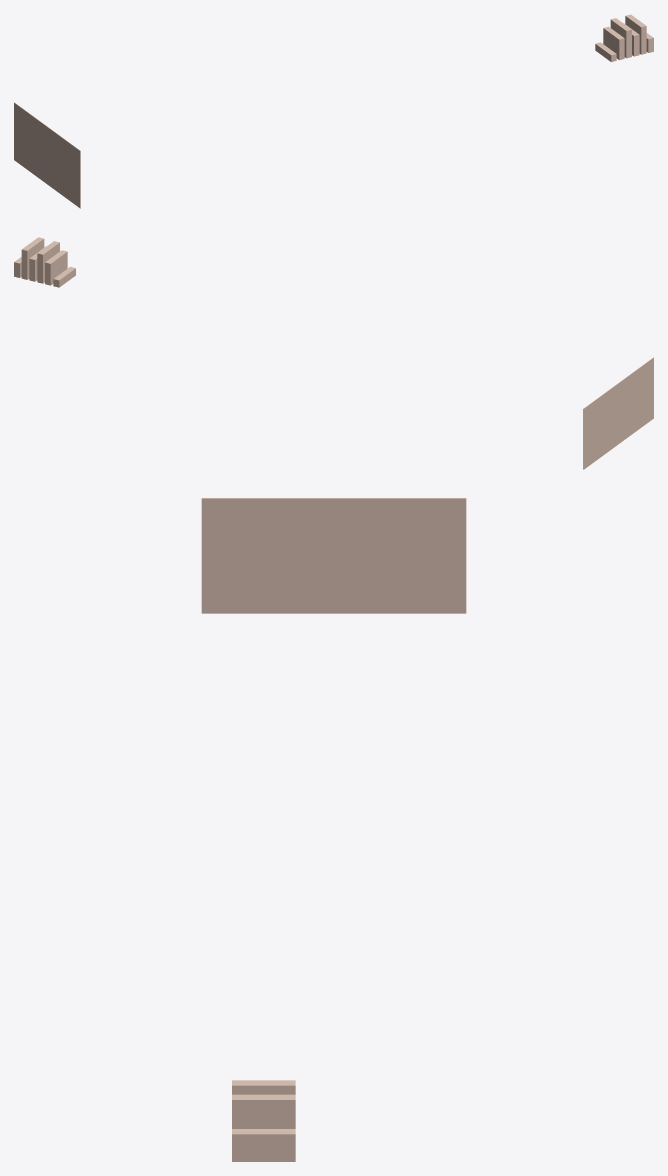
File: 13-SRF-Blastwall.glb
The picture shows the model from 3 angles, top to bottom: view 1: azimuth 30°, elevation 25°; view 2: azimuth 150°, elevation 25°; view 3: azimuth 270°, elevation 25°; orthographic projection. The views are drawn at different scales.
Visible parts, largest first — view 1: 3D Solid.001; view 2: 3D Solid.001; view 3: 3D Solid.001.
Boxes of the visible parts, x1,y1,x2,y2 form: 3D Solid.001: (14, 14, 653, 208); 3D Solid.001: (14, 237, 653, 469); 3D Solid.001: (201, 498, 466, 1161).
Size of the model in its own units: 257 by 24.31 by 50.7.
